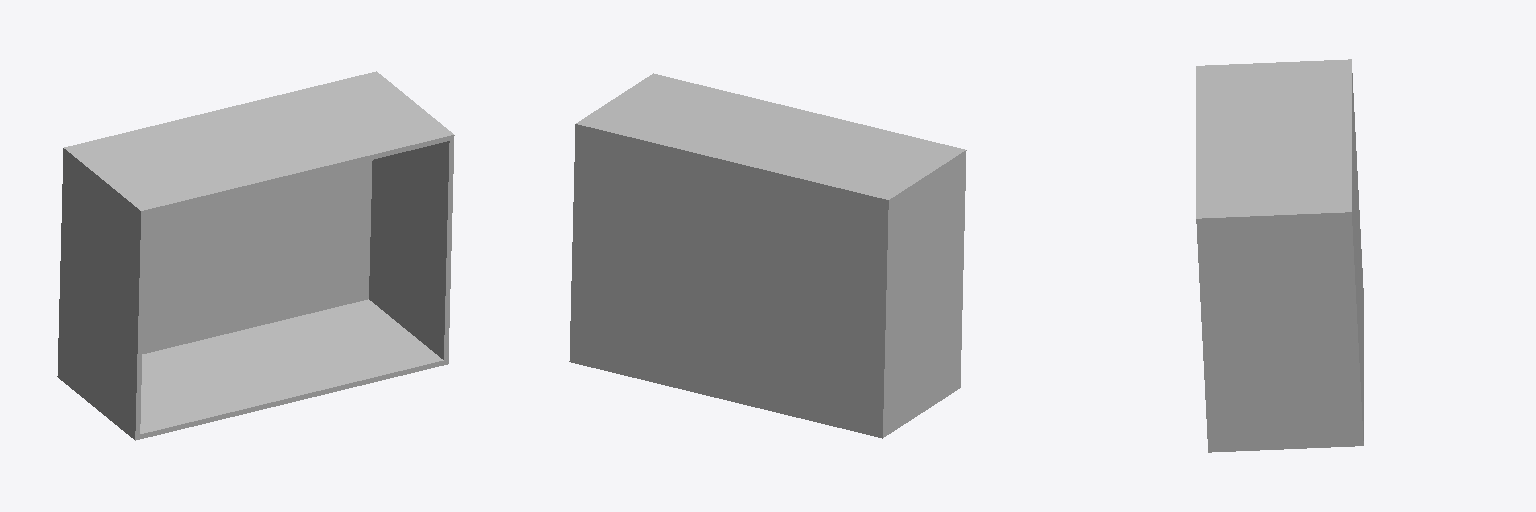
Rendered from fondCoffrebois.obj.
3 views of the same model, side by side, from view 1: azimuth 30°, elevation 25°; view 2: azimuth 150°, elevation 25°; view 3: azimuth 270°, elevation 25° (orthographic).
Parts seen in each view (by area): view 1: fondCoffrebois; view 2: fondCoffrebois; view 3: fondCoffrebois.
Boxes of the visible parts, x1=… form: fondCoffrebois: x1=57, y1=71, x2=454, y2=440; fondCoffrebois: x1=569, y1=73, x2=966, y2=438; fondCoffrebois: x1=1196, y1=59, x2=1363, y2=452.
Size of the model in its own units: 2.8 by 2.05 by 1.3.